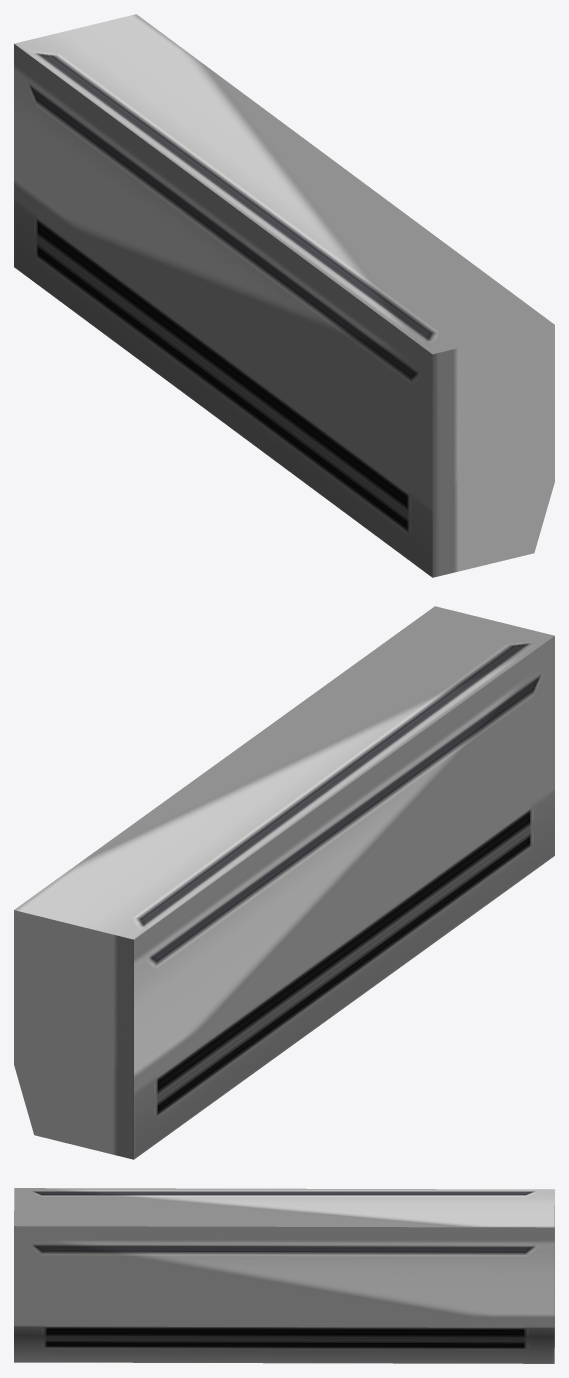
File: Tx_props_Aircond_2.fbx
3 views of the same model, one above another, from view 1: azimuth 30°, elevation 25°; view 2: azimuth 150°, elevation 25°; view 3: azimuth 270°, elevation 25° (orthographic). The views are drawn at different scales.
Parts seen in each view (by area): view 1: Tx_props_Aircond_8; view 2: Tx_props_Aircond_8; view 3: Tx_props_Aircond_8.
Boxes of the visible parts, left/top/right/bottom form: Tx_props_Aircond_8: left=14, top=14, right=554, bottom=577; Tx_props_Aircond_8: left=14, top=606, right=554, bottom=1159; Tx_props_Aircond_8: left=14, top=1188, right=554, bottom=1363.
Size of the model in its own units: 1.34 by 2.26 by 7.75.
